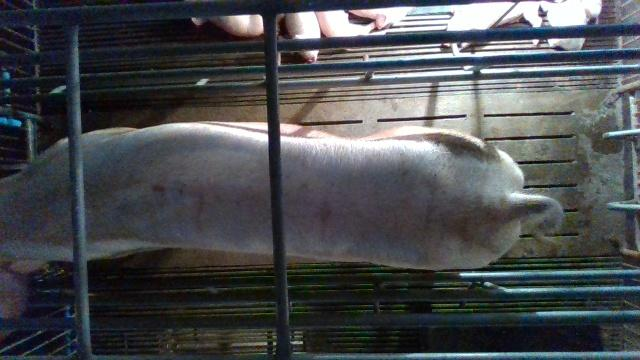piglet: (442, 2, 542, 48), (540, 0, 602, 51), (277, 12, 321, 63), (315, 10, 376, 37)
sow-stand-feed: (0, 122, 564, 339)
